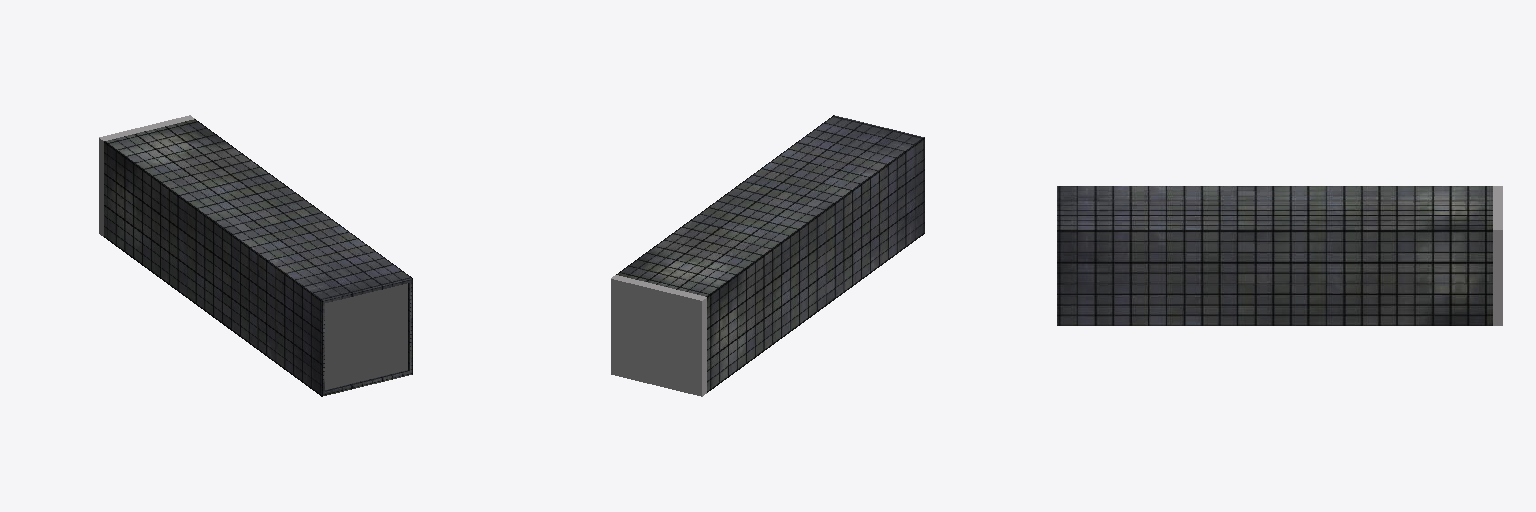
3 renders of one model, left to right at view 1: azimuth 30°, elevation 25°; view 2: azimuth 150°, elevation 25°; view 3: azimuth 270°, elevation 25°, orthographic.
Parts seen in each view (by area): view 1: object_1, object_2, object_3; view 2: object_1, object_3; view 3: object_1, object_3.
Part boxes in pixels (x1,y1,x2,y2): object_1: (104,119,412,396); object_2: (325,283,407,389); object_3: (99,115,194,236); object_1: (616,115,924,392); object_3: (611,275,706,396); object_1: (1057,186,1492,325); object_3: (1493,186,1502,325).
Size of the model in its own units: 3.19 by 3.19 by 13.49.
Materials: 3 (1 with a texture image).